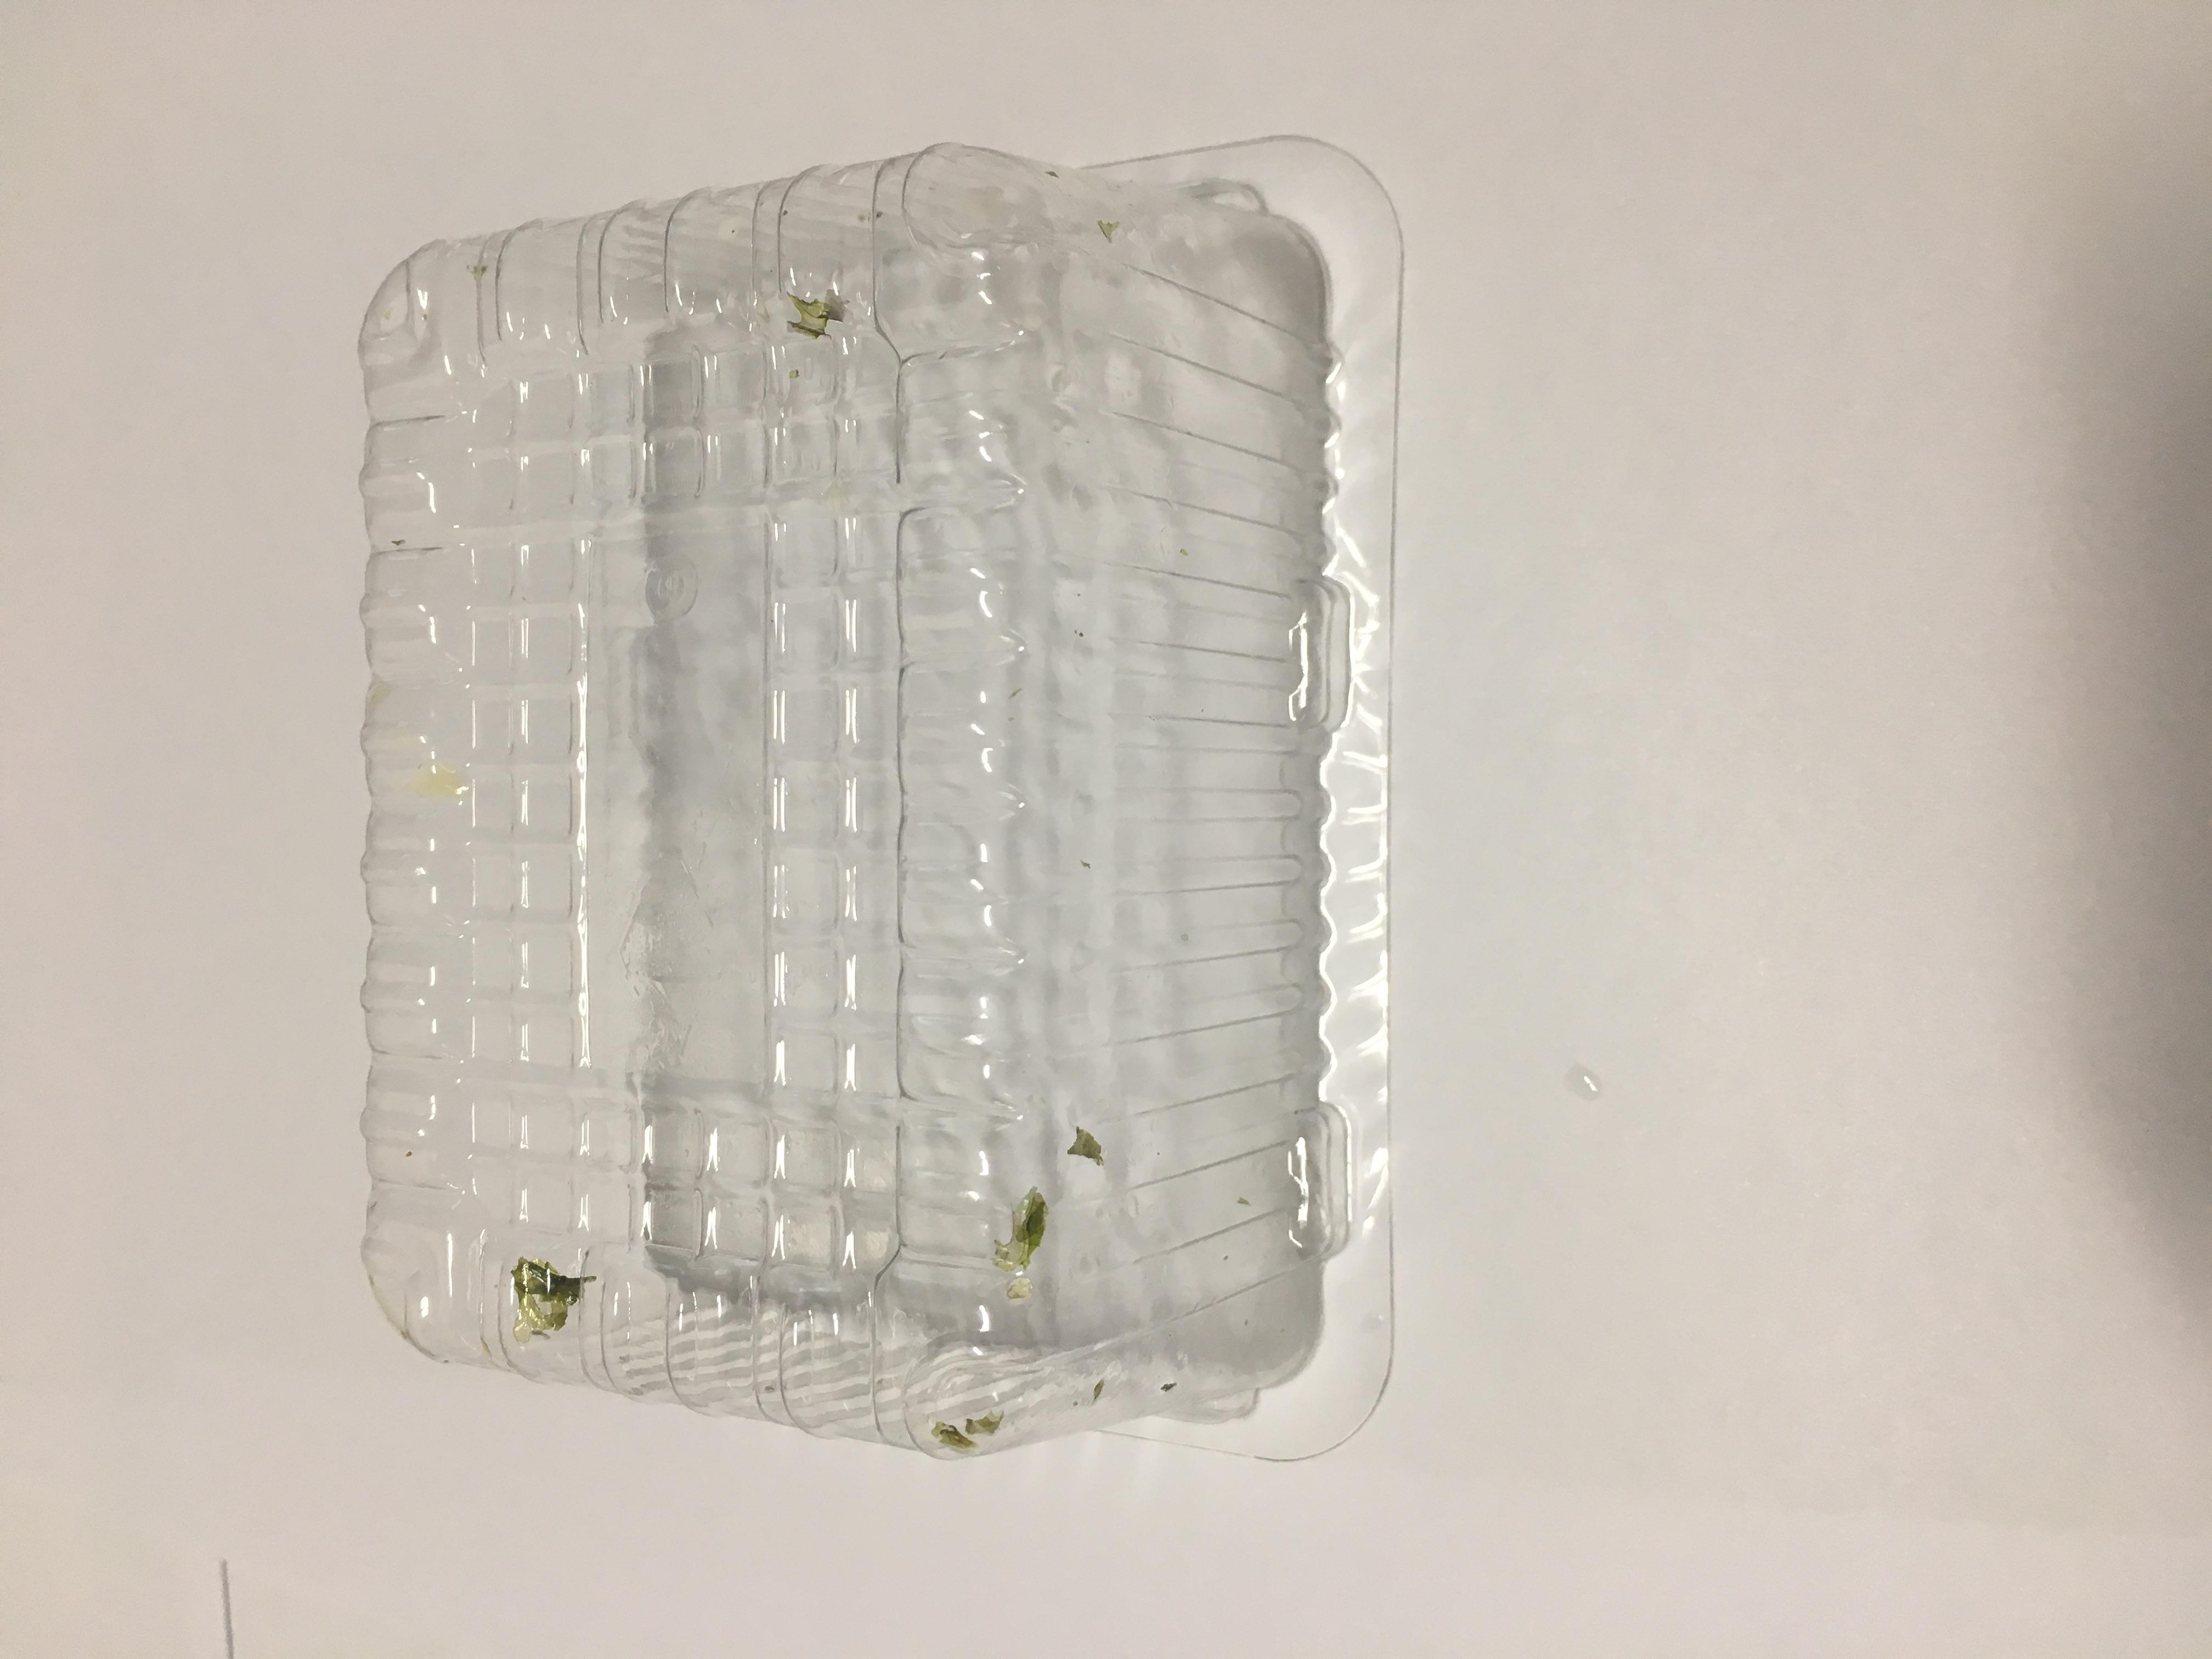bottle: (91, 190, 2198, 1107)
